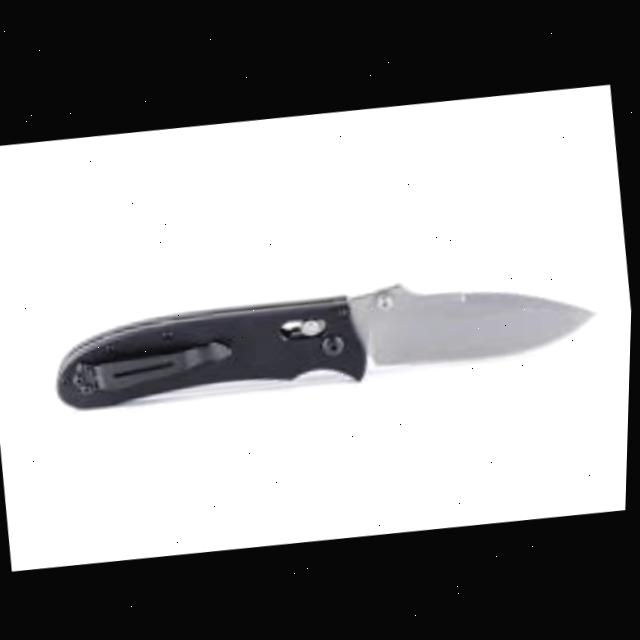knife: (48, 248, 603, 419)
